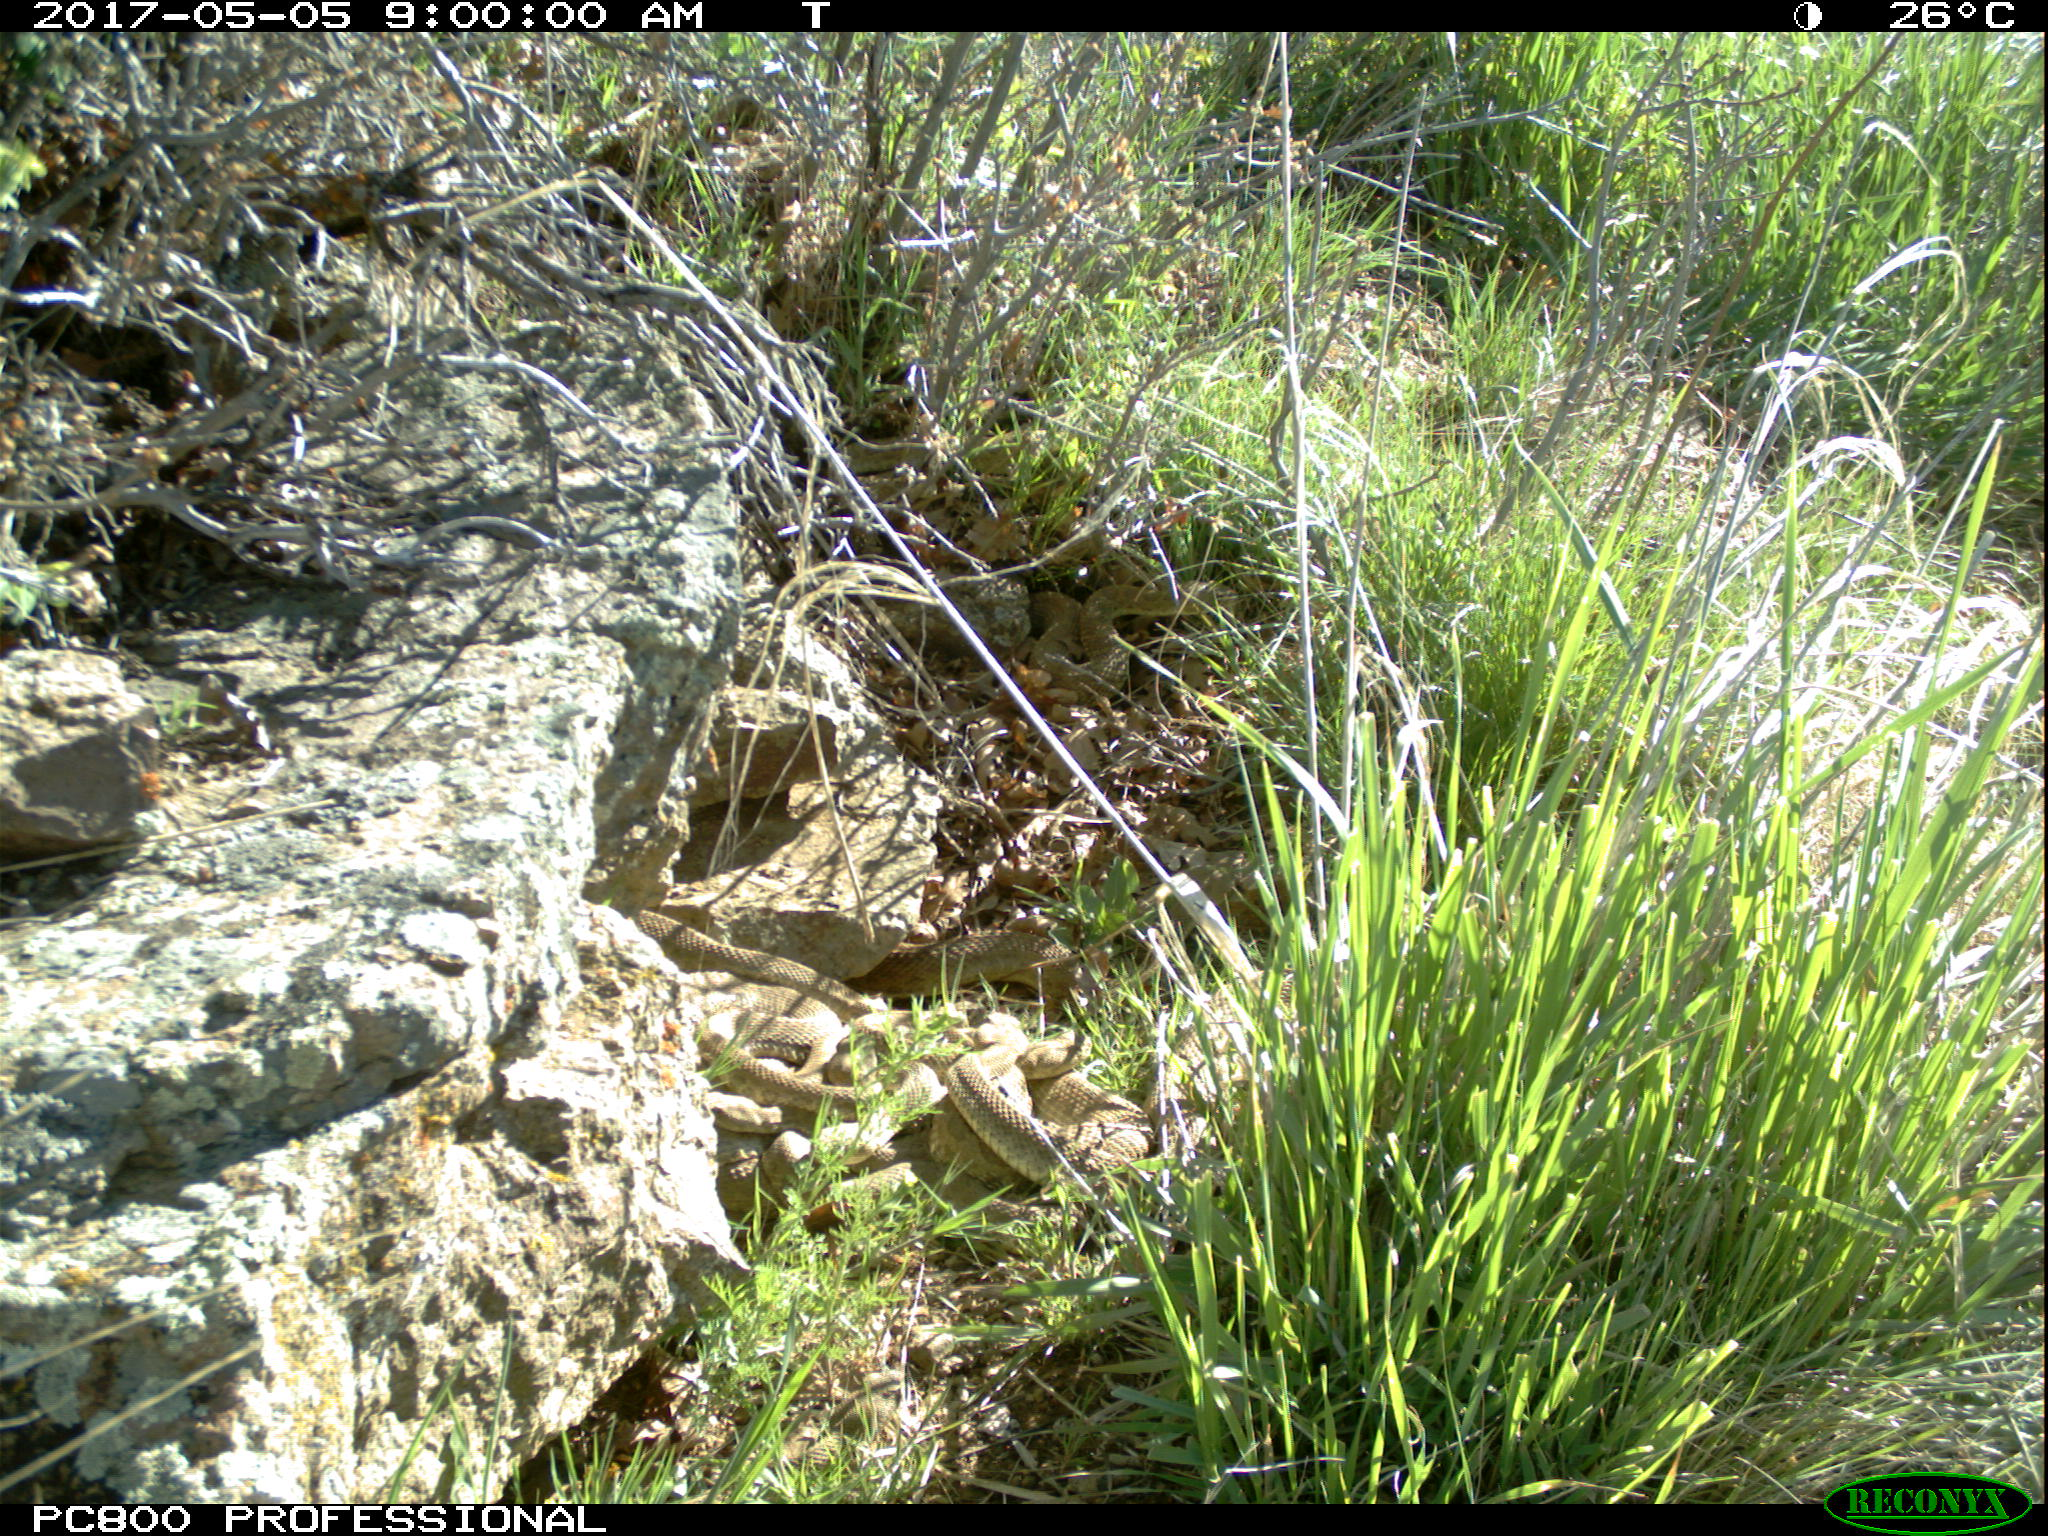snake: (634, 904, 958, 1128), (948, 1013, 1164, 1179), (997, 579, 1256, 703), (748, 1365, 926, 1486), (887, 931, 1101, 1016)
